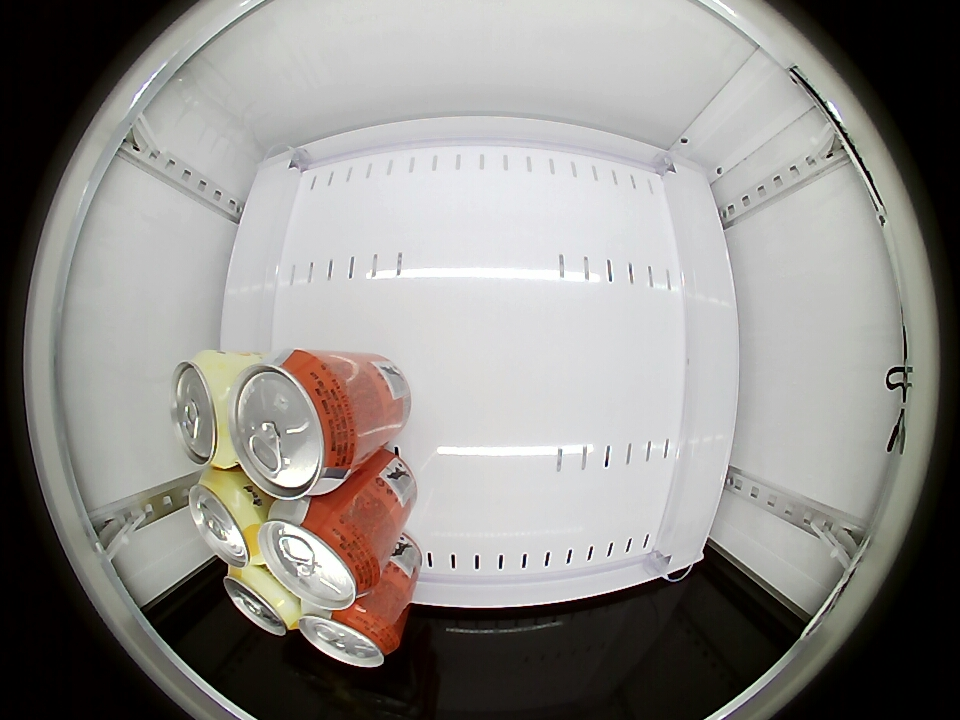jianlibao: (230, 350, 358, 501), (258, 500, 378, 610), (300, 603, 399, 668)
mangguoxiaolao: (171, 349, 239, 469), (188, 468, 264, 567), (224, 566, 299, 637)
